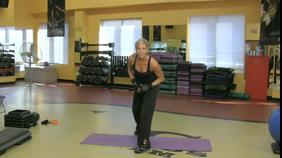down: (9, 109, 40, 136)
stay: (124, 44, 165, 122)
